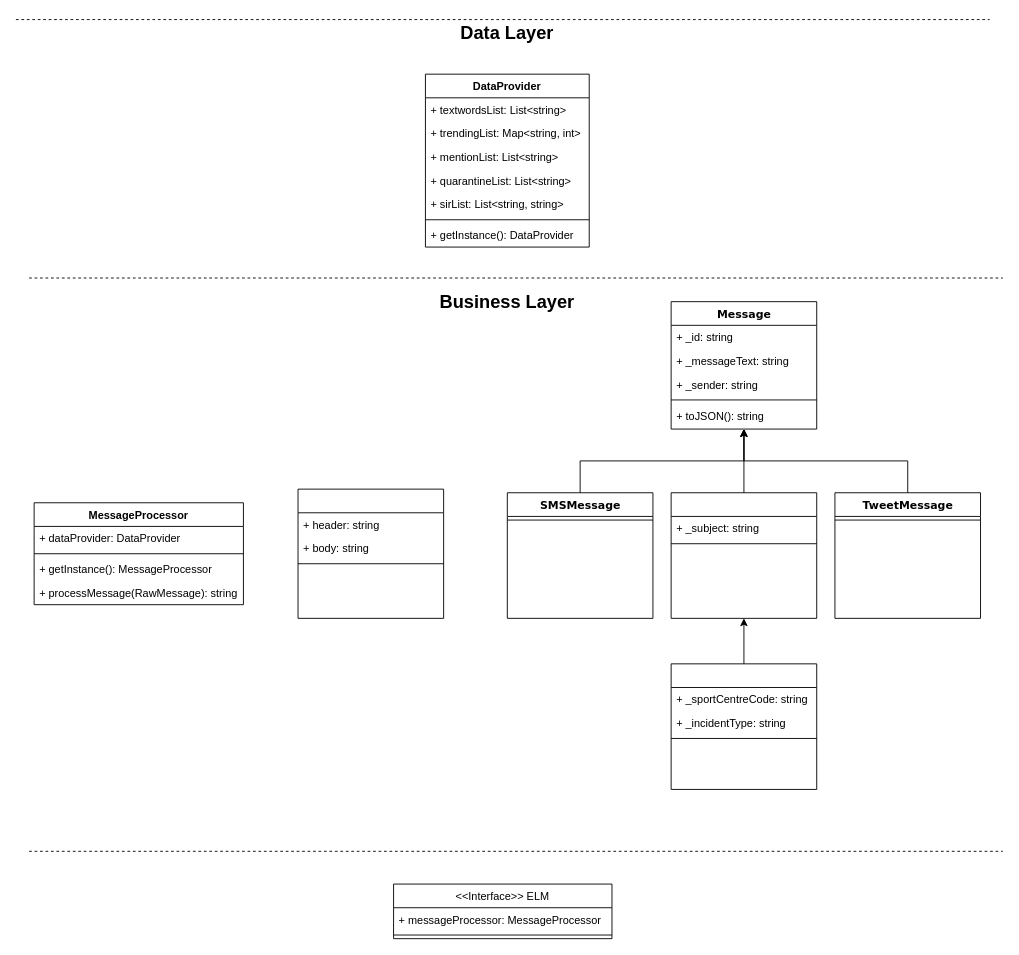
Some shapes in this 1019 by 955 pixel diagram are drawn without their labels. The box of each missing label's shape, as (x1, y1, x2, y2) in pixels:
EmailMessage: (670, 492, 817, 618)
Presentation/API Layer: (400, 854, 605, 873)
RawMessage: (297, 488, 444, 618)
SirMessage: (670, 663, 817, 789)
